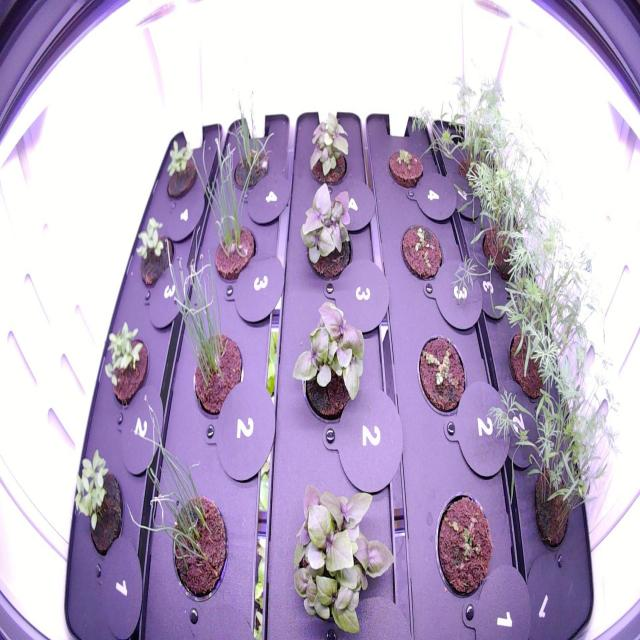germination: (430, 482, 496, 605), (68, 442, 130, 561), (413, 329, 470, 422), (98, 314, 152, 408), (130, 209, 178, 290), (395, 216, 446, 286), (157, 127, 200, 204), (383, 140, 428, 198)
